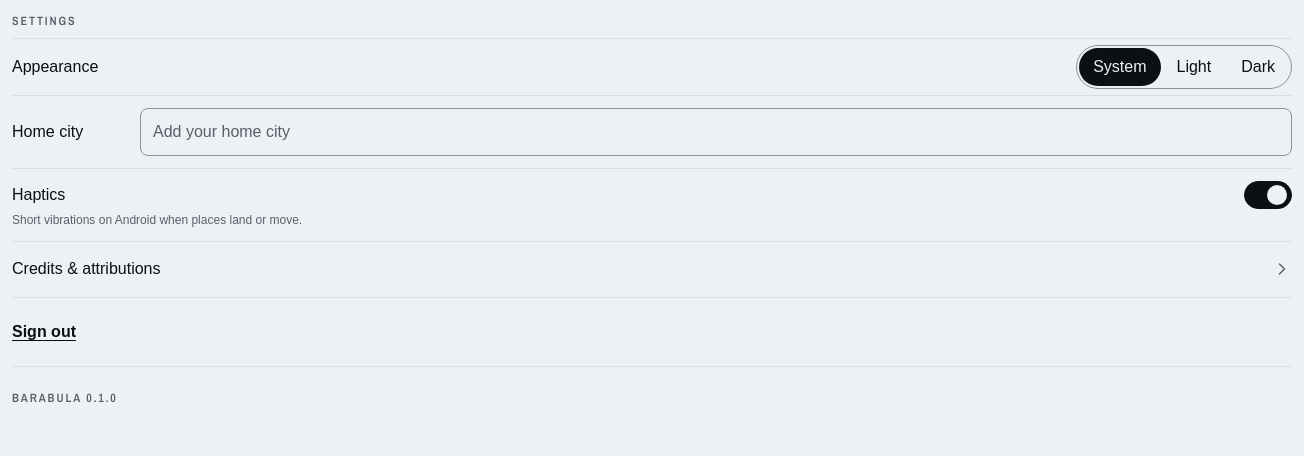
Test: SettingsList › shows DELAYED when the home city does not save
Type "Porto" into the dropdown with placeholder "Add your home city".
click(716, 132); type("Porto")  # box [140,108,1292,156]
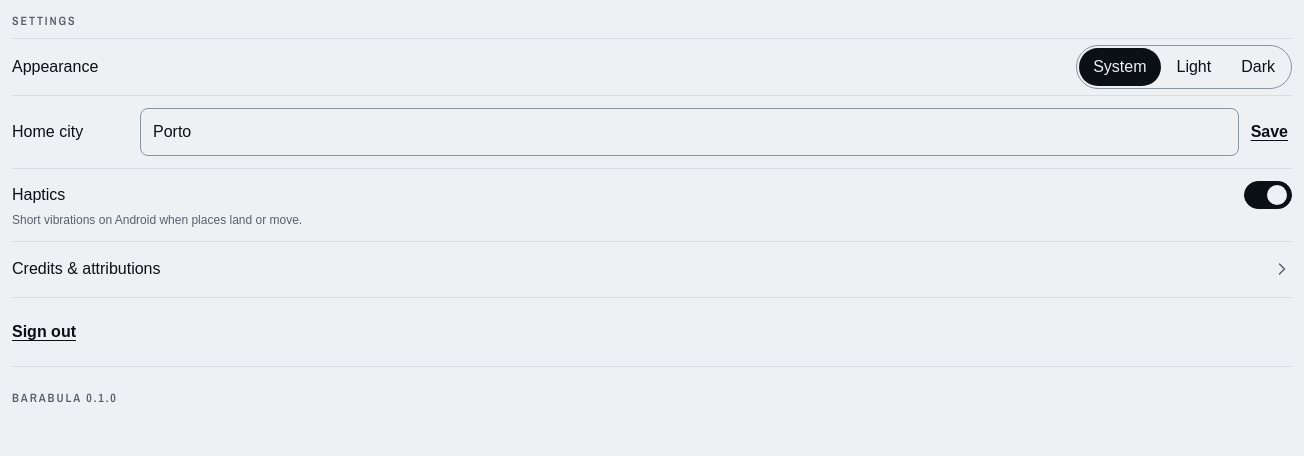
Click the button "Save".
click(1269, 132)  # box [1247,110,1292,154]
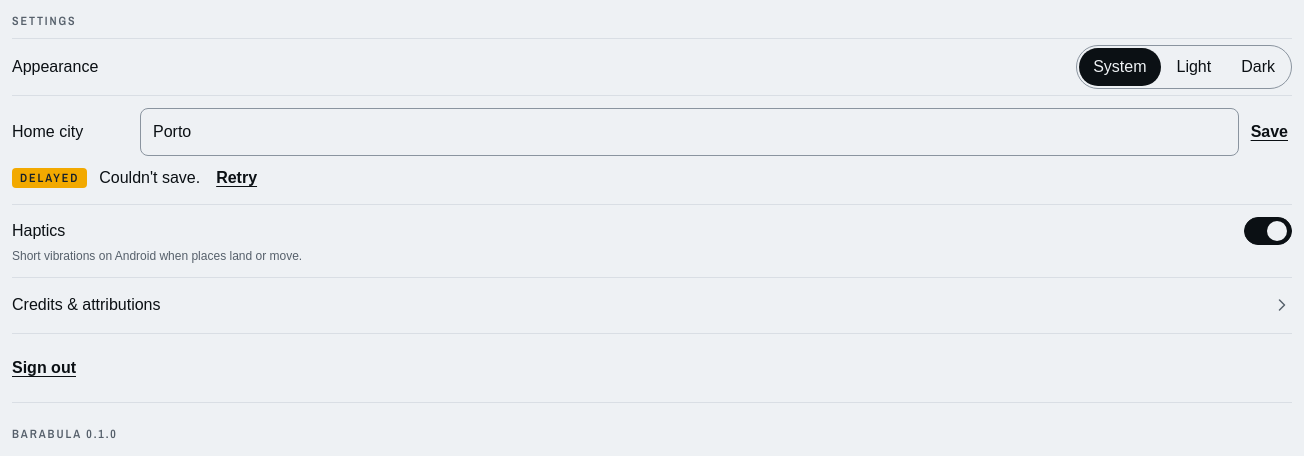
expect the text "Couldn't save." is shown: met, box [99,166,200,190]
